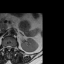CCS_normal: (8, 43, 10, 53)
LFS_stenosis: (12, 43, 14, 50)
LLS_stenosis: (10, 43, 12, 50)
RFS_stenosis: (4, 43, 6, 50)
RLS_normal: (6, 43, 8, 50)
